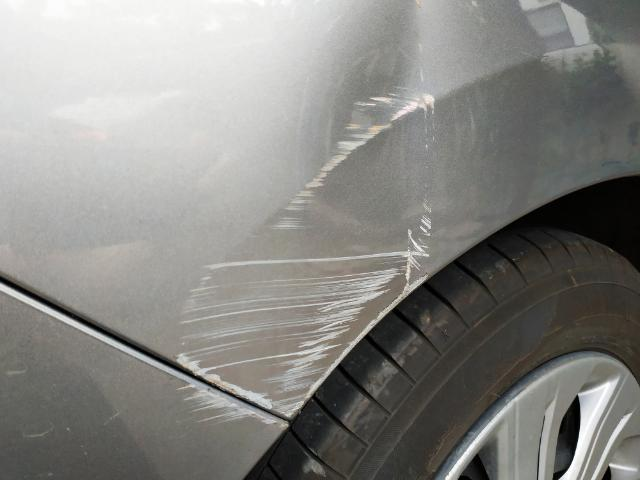dent: (311, 0, 443, 231)
scratch: (166, 171, 435, 420), (177, 378, 286, 428)
